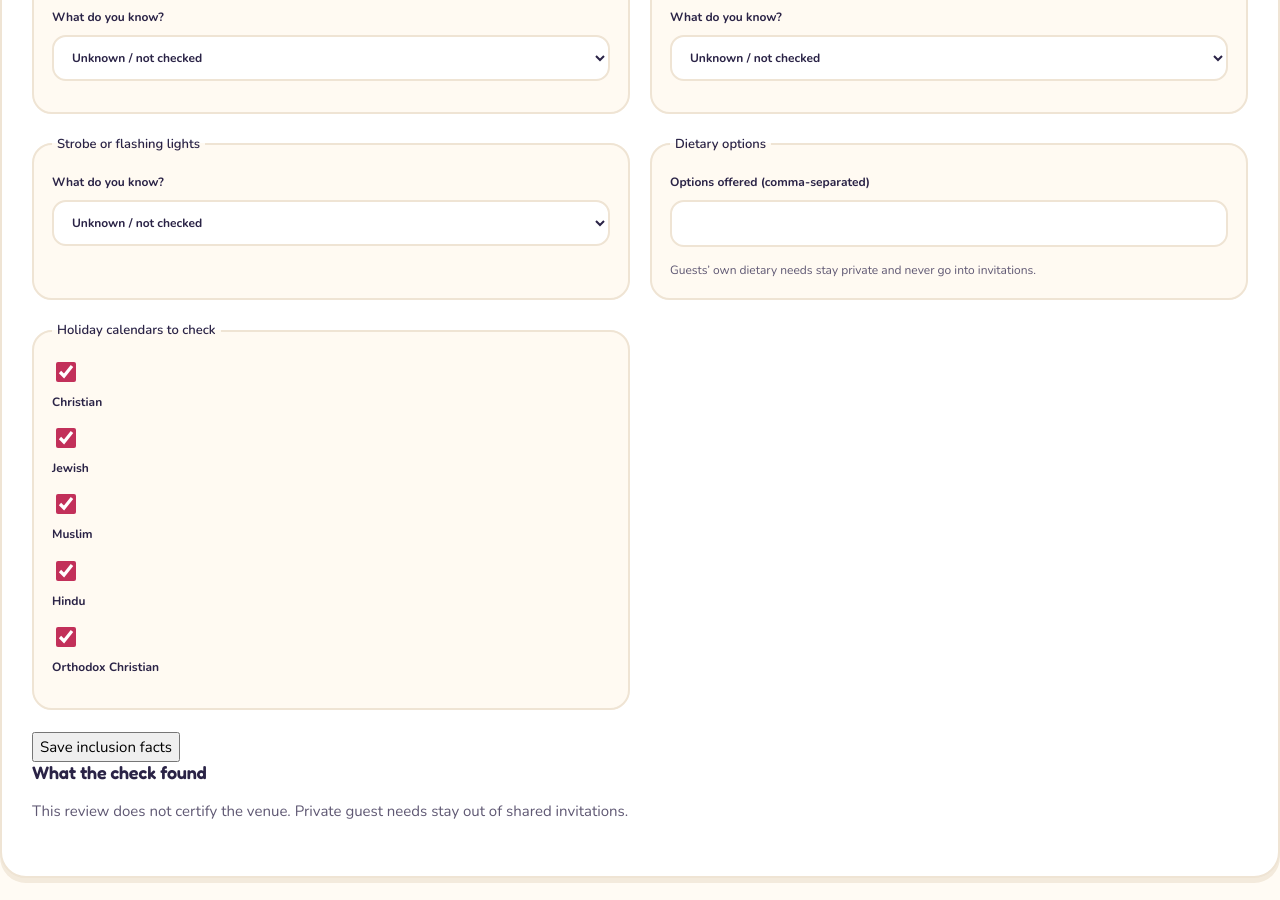
reloads the other session's facts when a save loses the version race
(page scrolled)
What coordinates should you click on to do the following:
click the button "Save inclusion facts"
I would click on:
 (106, 747)
Its box is top-left (32, 732), bottom-right (180, 762).
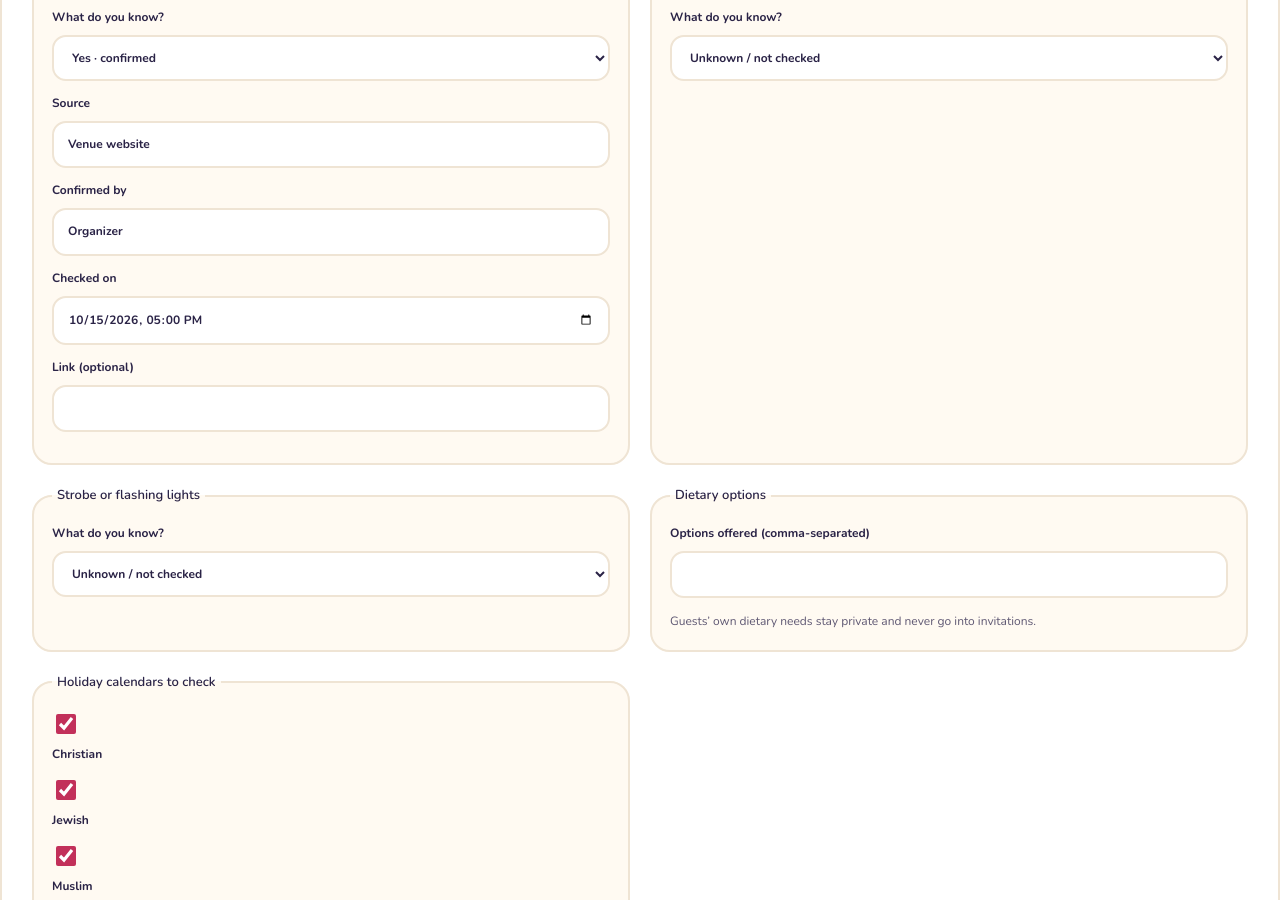
Now the field labelled "Source" holds "Venue website", box top-left (52, 121), bottom-right (610, 168)
Now the dropdown labelled "What do you know?" below "Captions or live transcription" shows "Yes · confirmed", box top-left (52, 35), bottom-right (610, 81)
